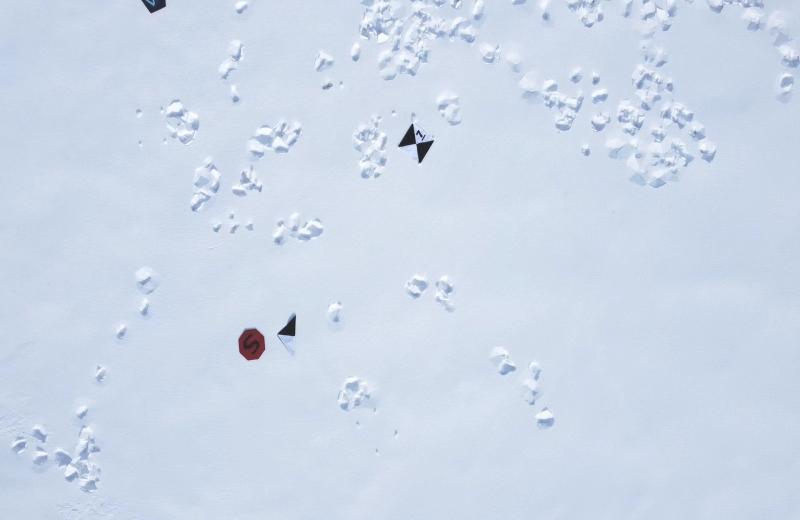Octagon: (235, 325, 270, 365)
Pentagon: (138, 0, 167, 16)
